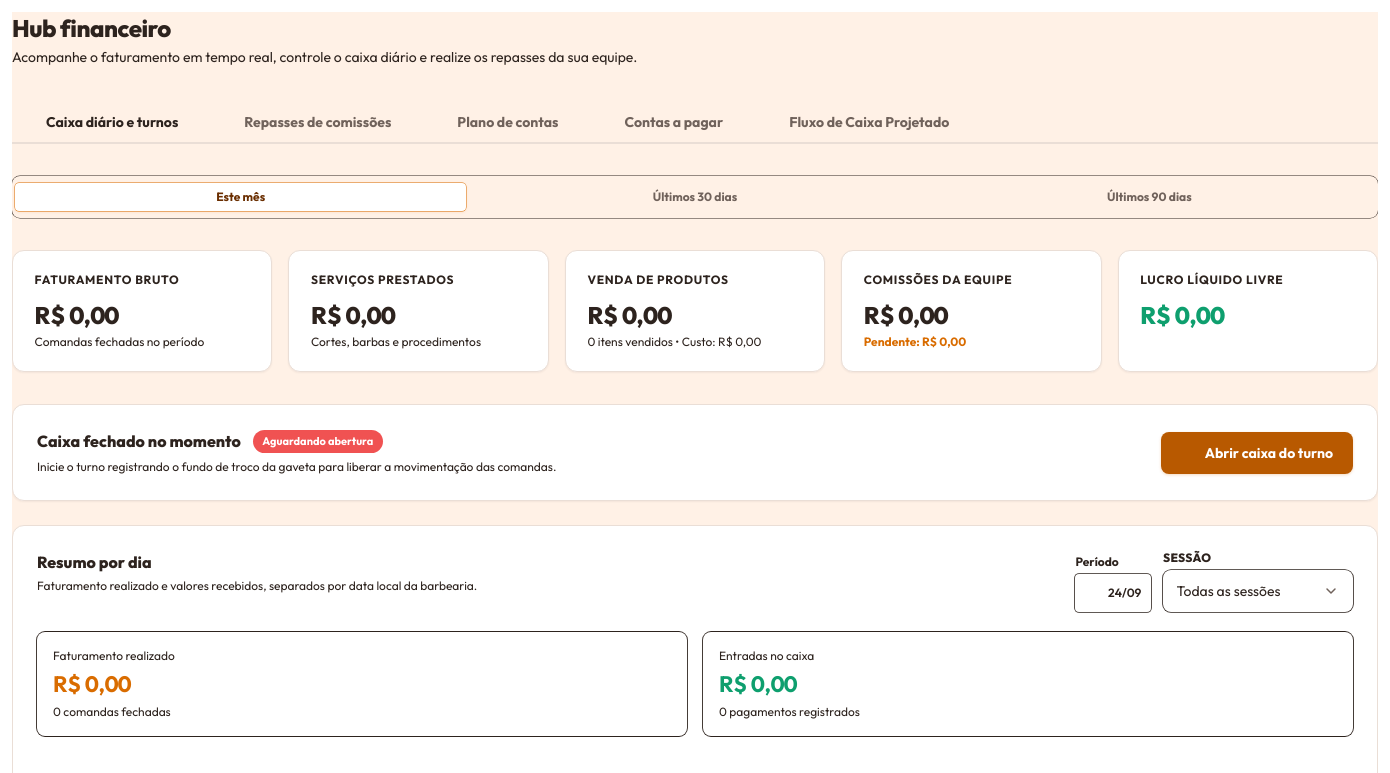
Test case: Página Financeiro (Gerente - Hub Financeiro) › deve alternar entre as abas Caixa diário e Repasses de comissões por navegação de link
This screenshot has width=1390, height=773.
Expected: the link "Caixa diário e turnos" is shown, x1=46 y1=113 x2=178 y2=131
# Navegar para a aba Repasses de comissões é navegação por link, não clique em botão
Click the link "Repasses de comissões" at (318, 122), box x1=244 y1=113 x2=391 y2=131
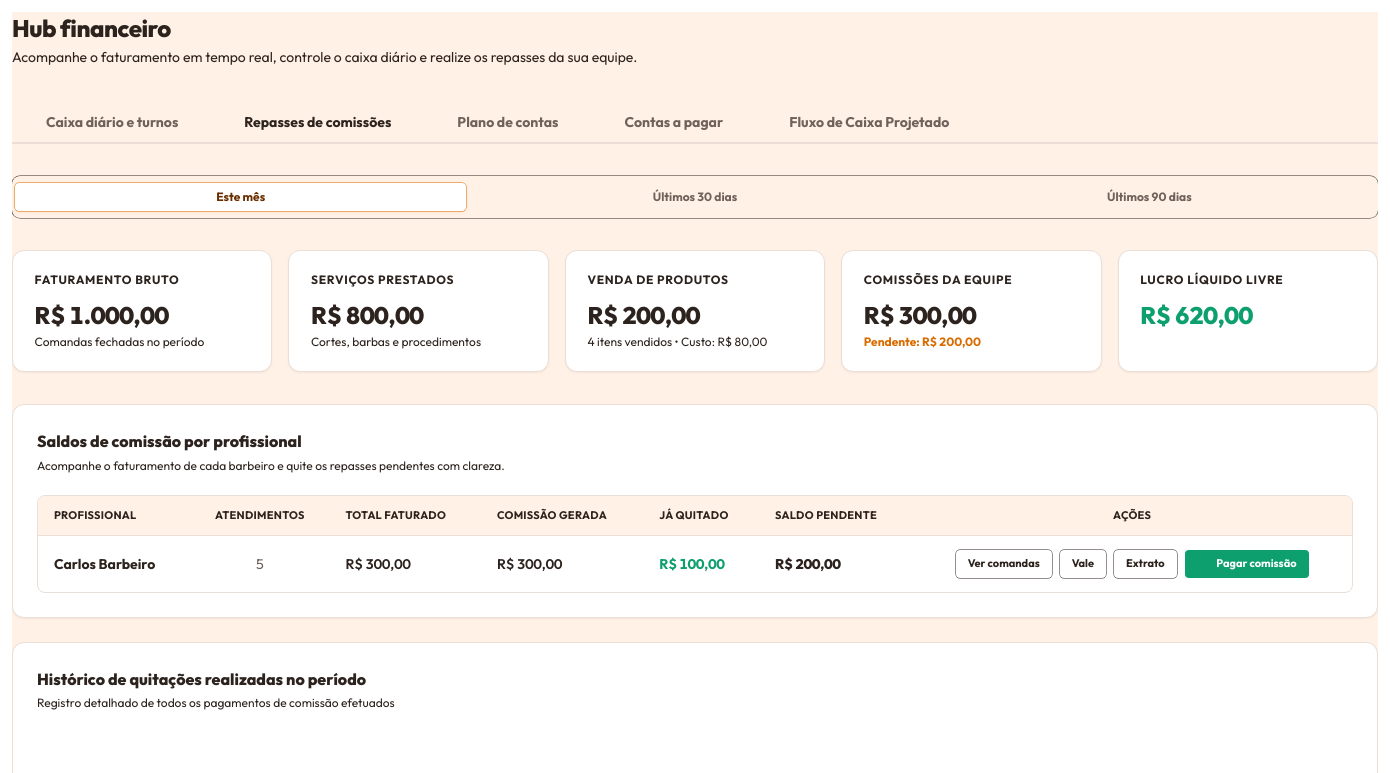
Expected: the heading "Saldos de comissão por profissional" is shown, x1=37 y1=431 x2=302 y2=451
Expected: the text "Carlos Barbeiro" is shown, x1=54 y1=554 x2=155 y2=574
Expected: the button "Pagar comissão" is shown, x1=1185 y1=550 x2=1309 y2=578
